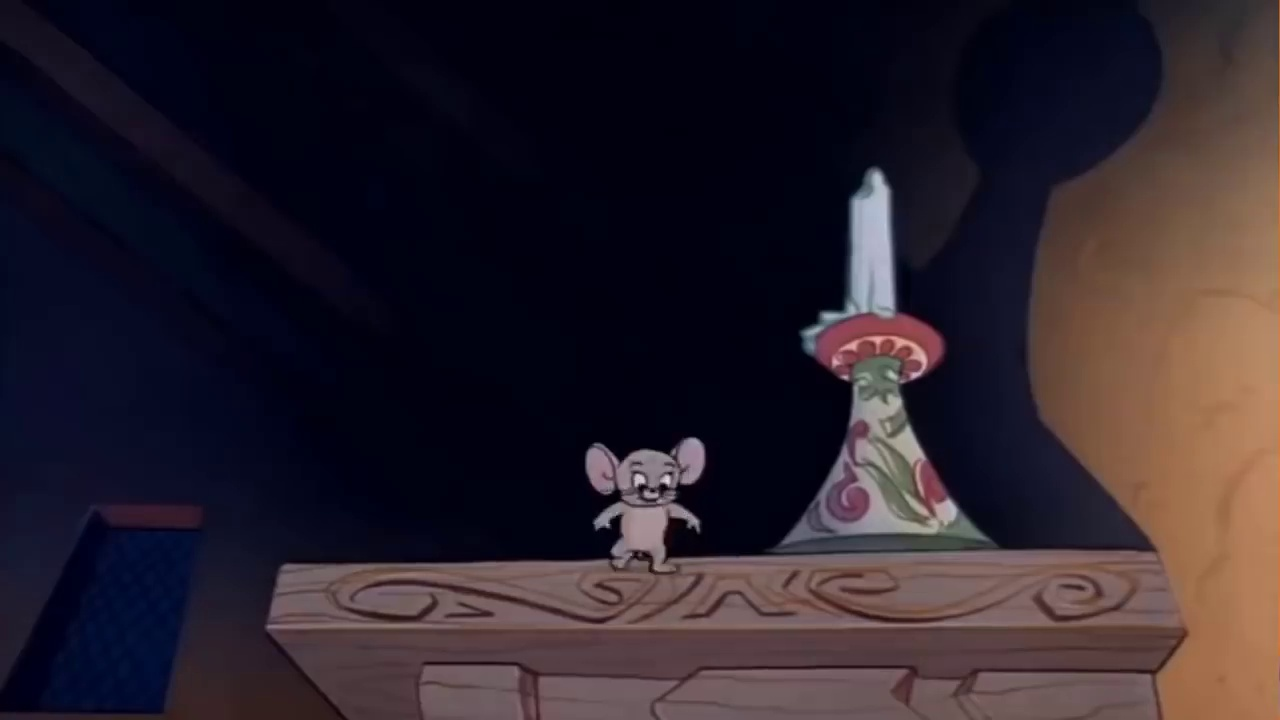face: (625, 454, 680, 507)
